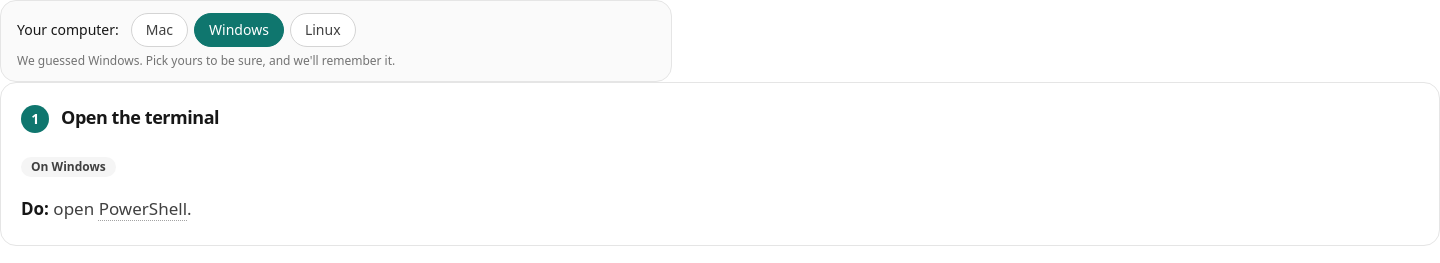
system picker › guesses the computer until the learner picks, then shows only that system's steps
Expected: the text "We guessed Windows" is shown, x1=17 y1=52 x2=395 y2=69
Click the radio button labelled "Mac" at coordinates (159, 30), box x1=131 y1=13 x2=188 y2=47
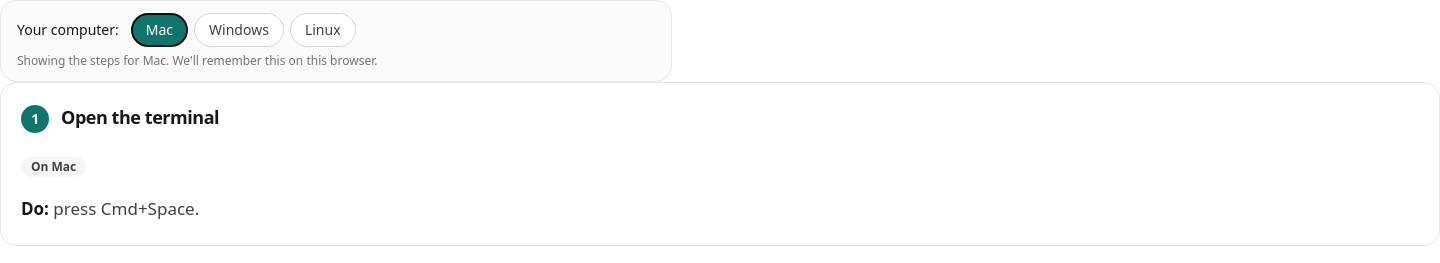
Expected: the text "Showing the steps for Mac" is shown, x1=17 y1=52 x2=377 y2=69
